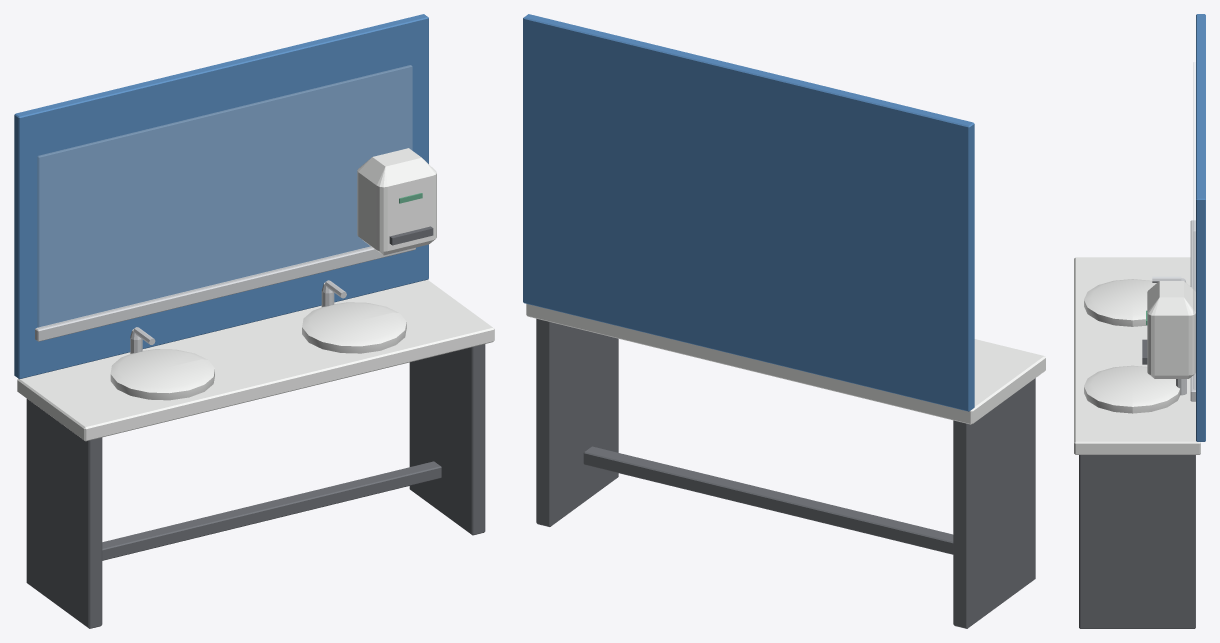
File: community-sports-hall-and-changing-rooms-basin-and-dry-3c323cb6__35108.glb
The picture shows the model from 3 angles, left to right: view 1: azimuth 30°, elevation 25°; view 2: azimuth 150°, elevation 25°; view 3: azimuth 270°, elevation 25°; orthographic projection. The views are drawn at different scales.
Parts seen in each view (by area): view 1: basin-and-dryer-unit; view 2: basin-and-dryer-unit; view 3: basin-and-dryer-unit.
Part boxes in pixels (<box>): basin-and-dryer-unit: <box>14,14,494,628</box>; basin-and-dryer-unit: <box>523,14,1045,628</box>; basin-and-dryer-unit: <box>1074,14,1205,628</box>.
Size of the model in its own units: 1.8 by 1.96 by 0.54.
